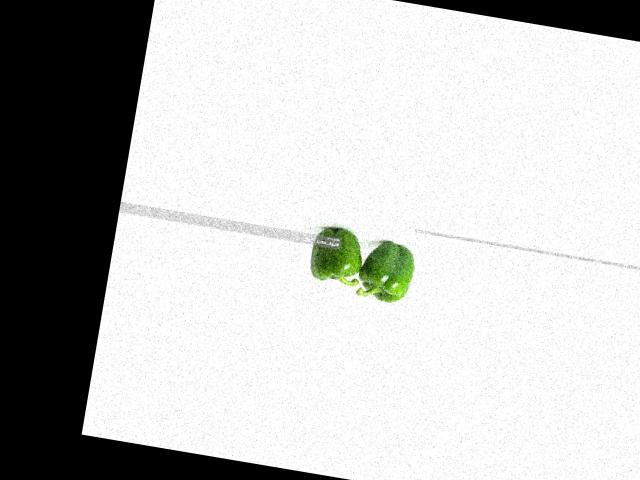bell_pepper: (355, 229, 419, 309)
